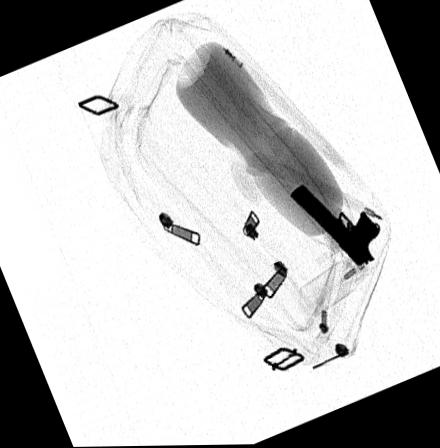Gun: (289, 183, 382, 270)
